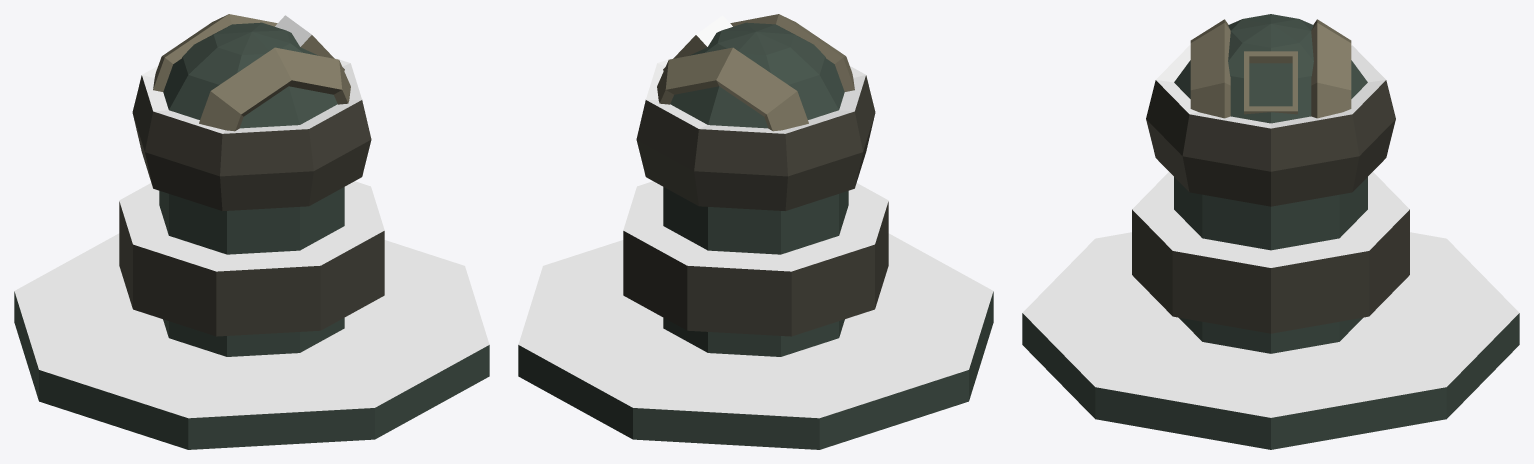
File: Model_Frost_3x3B.fbx
3 renders of one model, left to right at view 1: azimuth 30°, elevation 25°; view 2: azimuth 150°, elevation 25°; view 3: azimuth 270°, elevation 25°, orthographic.
Visible parts, largest first — view 1: xueshan_leida_3_3; view 2: xueshan_leida_3_3; view 3: xueshan_leida_3_3.
Part boxes in pixels (x1,y1,x2,y2): xueshan_leida_3_3: (14,14,489,449); xueshan_leida_3_3: (518,14,993,449); xueshan_leida_3_3: (1022,14,1519,449).
Size of the model in its own units: 521 by 373 by 521.
1 material, 1 textured.
